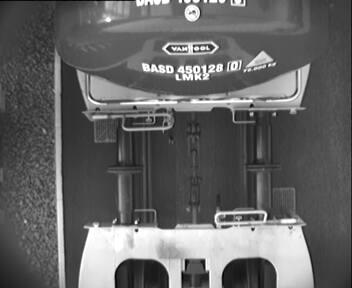twist_lock_2: (108, 252, 282, 288)
